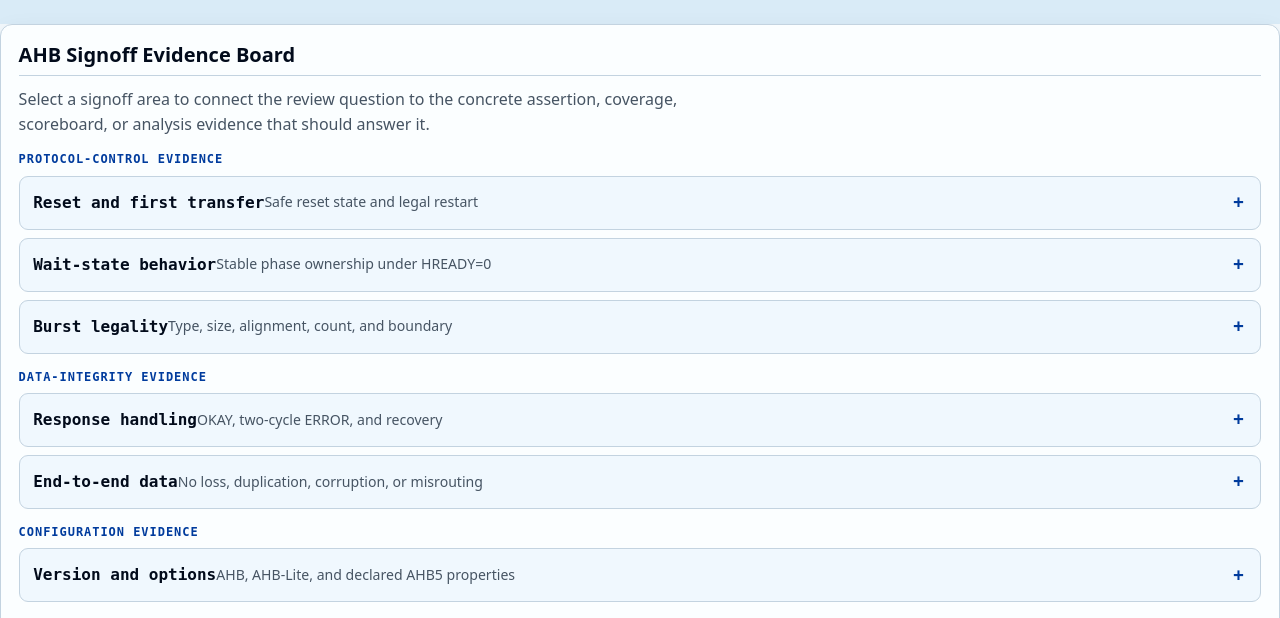
production visual rendering › opens the signoff evidence for stalled-transfer safety
The width and height of the screenshot is (1280, 618).
Check: the heading "AHB Signoff Evidence Board" is shown, box 19,43 -> 1261,76
Click the button "Wait-state behavior Stable phase ownership under HREADY=0 +": click(125, 264) 20,239 -> 1260,291
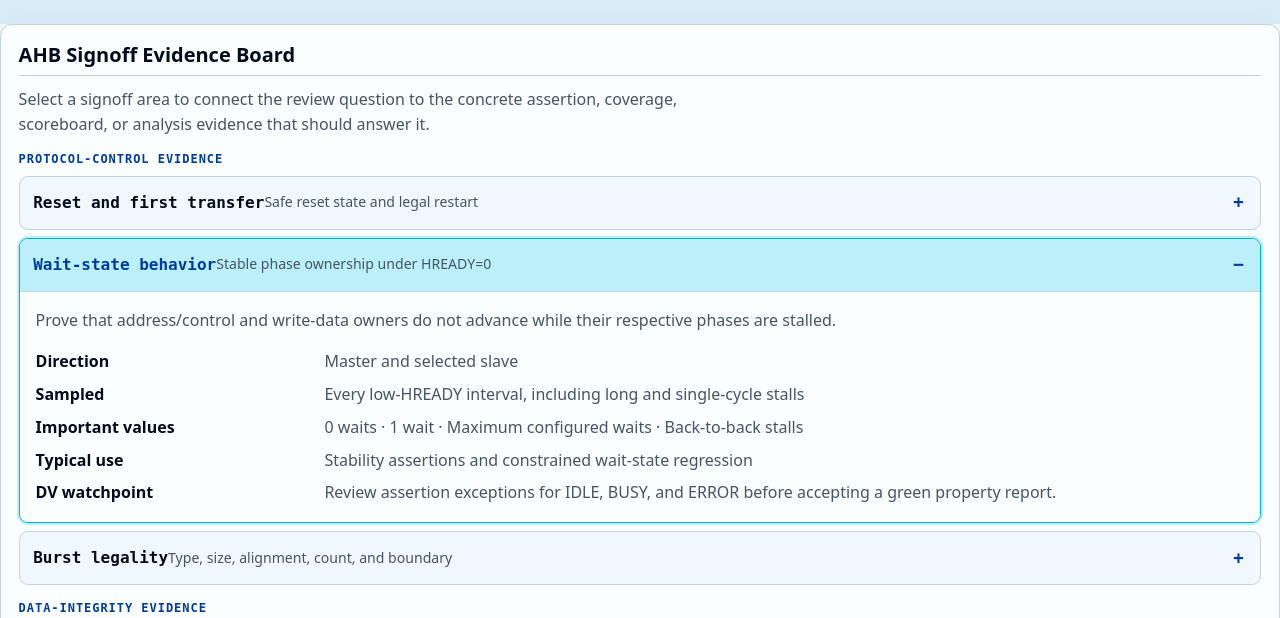
Check: the text "green property report" is shown, box 324,481 -> 1056,503
